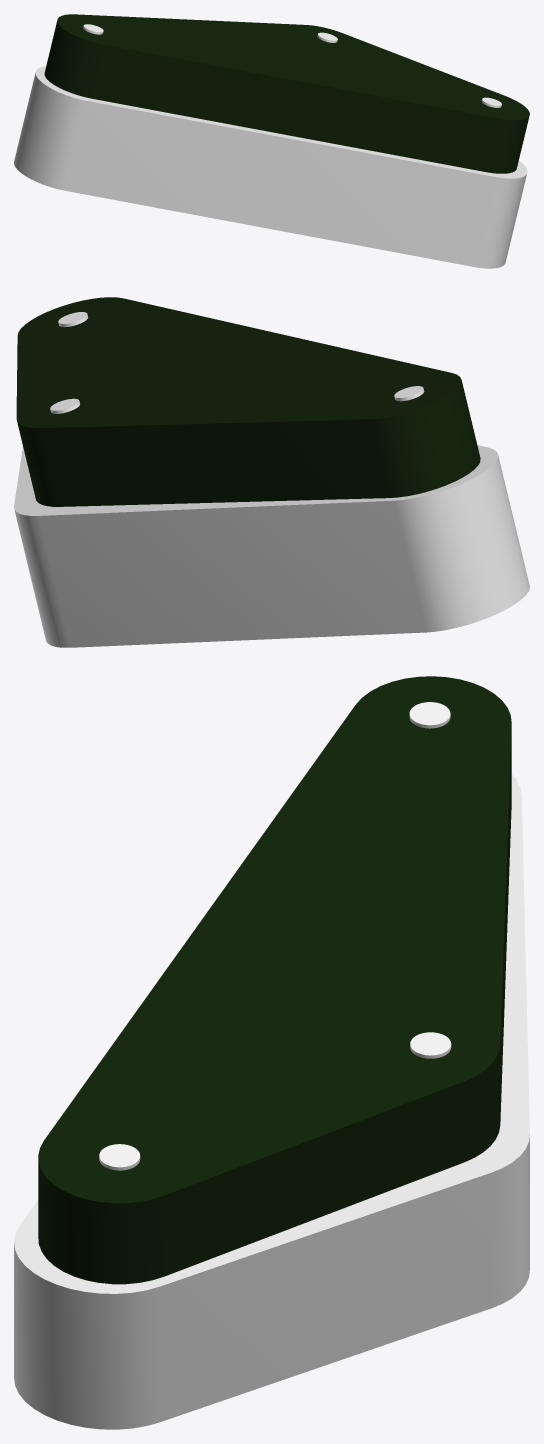
Rendered from Bumper-triangle1.glb.
3 renders of one model, top to bottom at view 1: azimuth 30°, elevation 25°; view 2: azimuth 150°, elevation 25°; view 3: azimuth 270°, elevation 25°, orthographic. The views are drawn at different scales.
Parts seen in each view (by area): view 1: slingshot_1_2_Mat.1_0, slingshot_2_Mat.16_0; view 2: slingshot_2_Mat.16_0, slingshot_1_2_Mat.1_0; view 3: slingshot_2_Mat.16_0, slingshot_1_2_Mat.1_0, Cylinder_10_3_Mat.5_0, Cylinder_1_13_Mat.5_0, Cylinder_2_9_Mat.5_0.
Boxes of the visible parts, left/top/right/bottom form: slingshot_1_2_Mat.1_0: left=14, top=66, right=527, bottom=268; slingshot_2_Mat.16_0: left=44, top=14, right=529, bottom=173; slingshot_2_Mat.16_0: left=16, top=297, right=480, bottom=506; slingshot_1_2_Mat.1_0: left=14, top=445, right=529, bottom=647; slingshot_2_Mat.16_0: left=38, top=676, right=511, bottom=1284; slingshot_1_2_Mat.1_0: left=14, top=774, right=529, bottom=1429; Cylinder_10_3_Mat.5_0: left=410, top=1032, right=451, bottom=1058; Cylinder_1_13_Mat.5_0: left=99, top=1144, right=140, bottom=1170; Cylinder_2_9_Mat.5_0: left=409, top=702, right=450, bottom=728.
Size of the model in its own units: 0.6716 by 0.3718 by 0.392.
